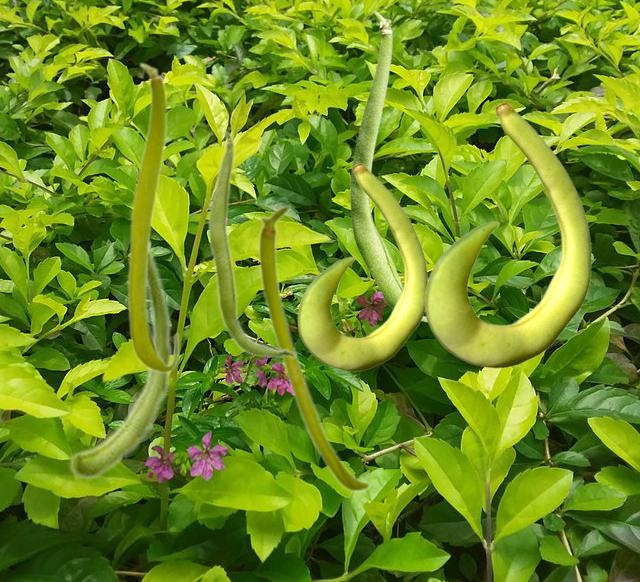french_bean: (424, 102, 591, 367), (257, 203, 370, 492), (297, 163, 427, 370), (68, 241, 173, 479), (350, 10, 426, 322), (206, 129, 297, 359), (126, 61, 179, 373)
